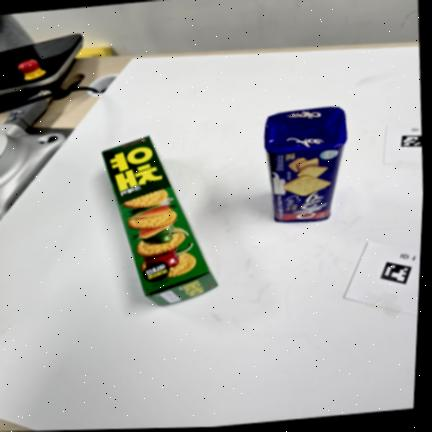cracker_ace: (264, 106, 347, 222)
cracker_vege: (102, 135, 217, 305)
